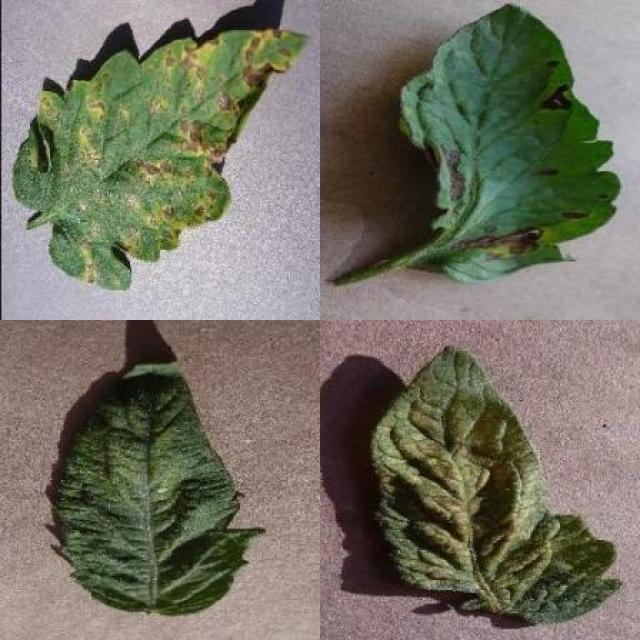Early Blight: (396, 3, 623, 286)
Septoria: (10, 31, 310, 292)
Spider Mites: (372, 344, 622, 626), (55, 360, 265, 616)
